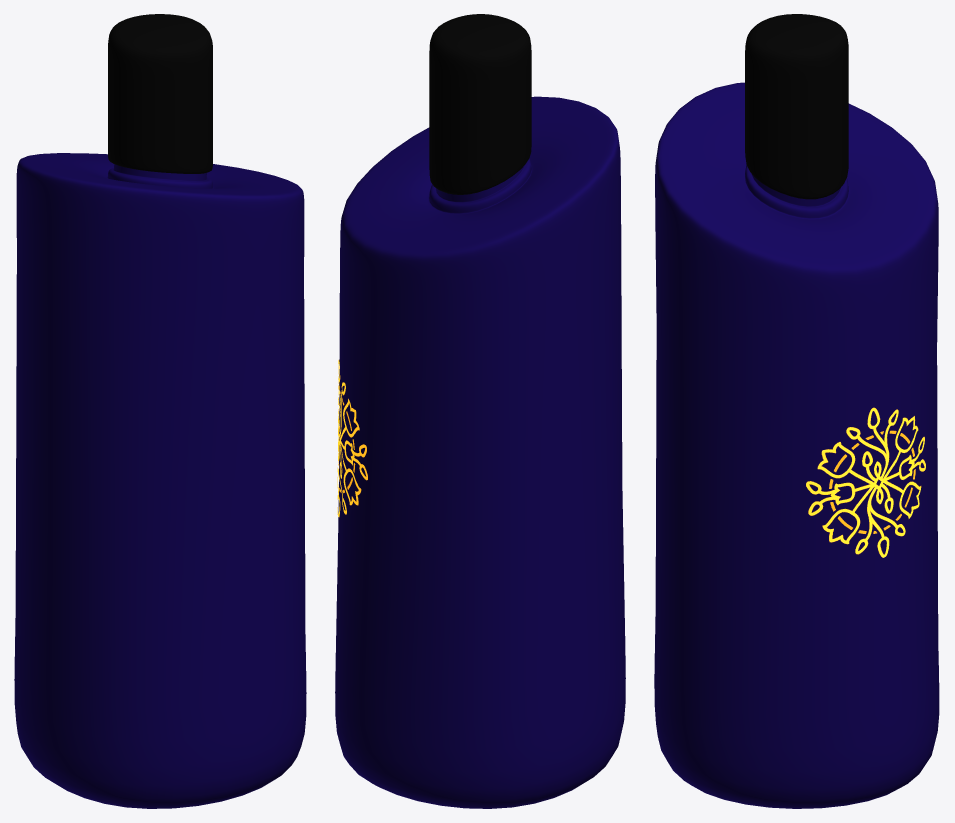
The model's file is perfumes.glb.
3 views of the same model, side by side, from view 1: azimuth 30°, elevation 25°; view 2: azimuth 150°, elevation 25°; view 3: azimuth 270°, elevation 25° (orthographic).
Parts seen in each view (by area): view 1: Cube_0; view 2: Cube_0; view 3: Cube_0.
Part boxes in pixels (x1,y1,x2,y2): Cube_0: (14,14,306,808); Cube_0: (335,14,625,808); Cube_0: (654,14,939,808).
Size of the model in its own units: 1.82 by 5.17 by 1.82.
Materials: 3 (1 with a texture image).
